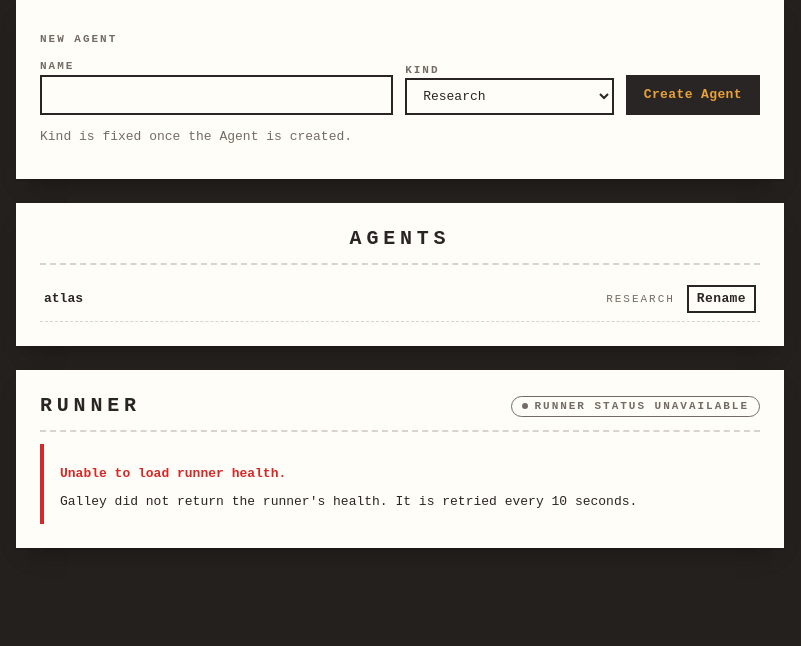
AgentsPage › keeps the rows and says the list may be stale when the reload after a change fails
Type "Builder" into the field labelled "Name". click: (217, 95)
box: [40,75,393,115]
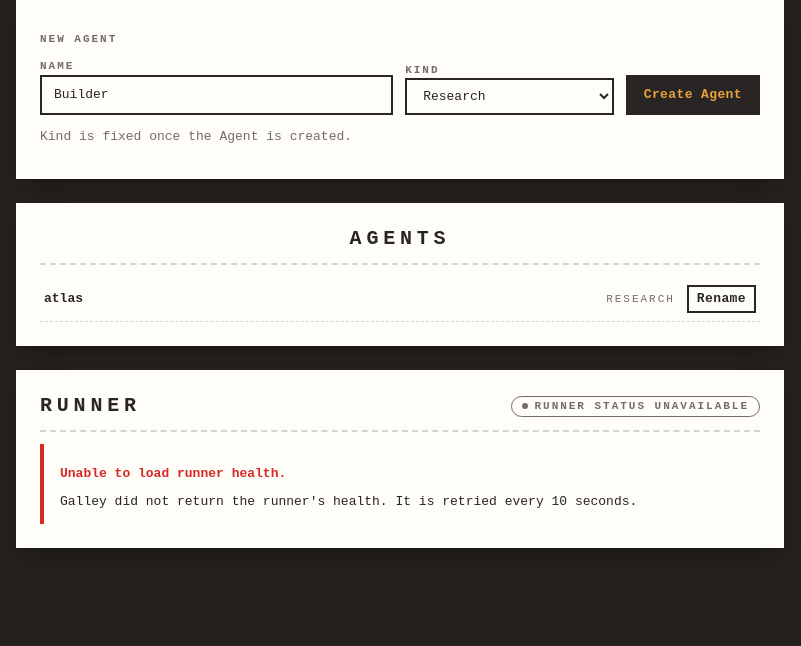
Click the button "Create Agent". click: (693, 95)
box: [626,75,760,115]
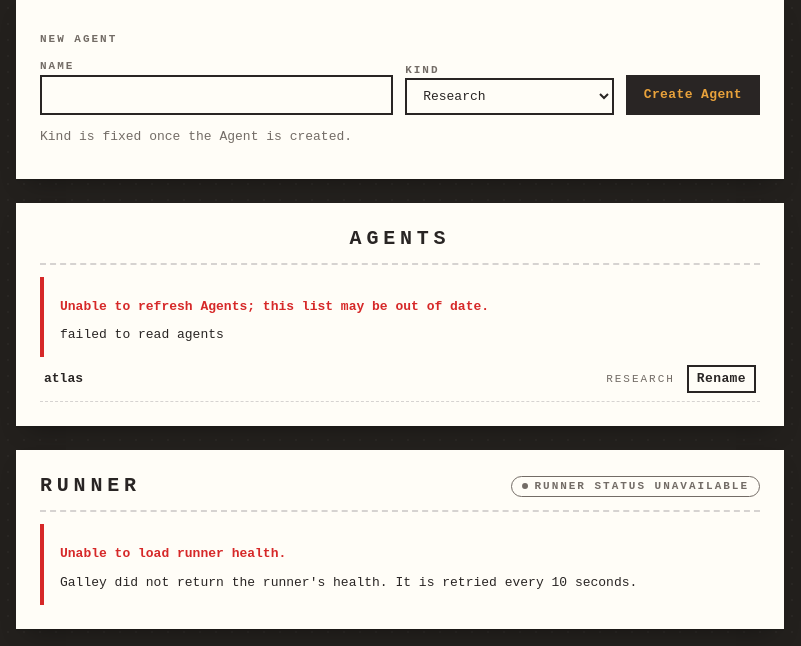
Check: the message with test id "agent-list-reload-error" shows "failed to read agents", box [60,327,224,342]
